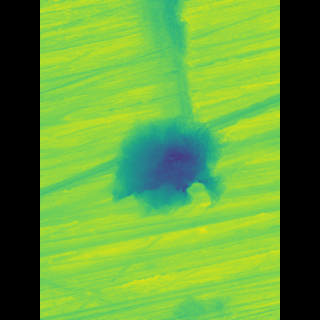Loch: (121, 115, 212, 215)
